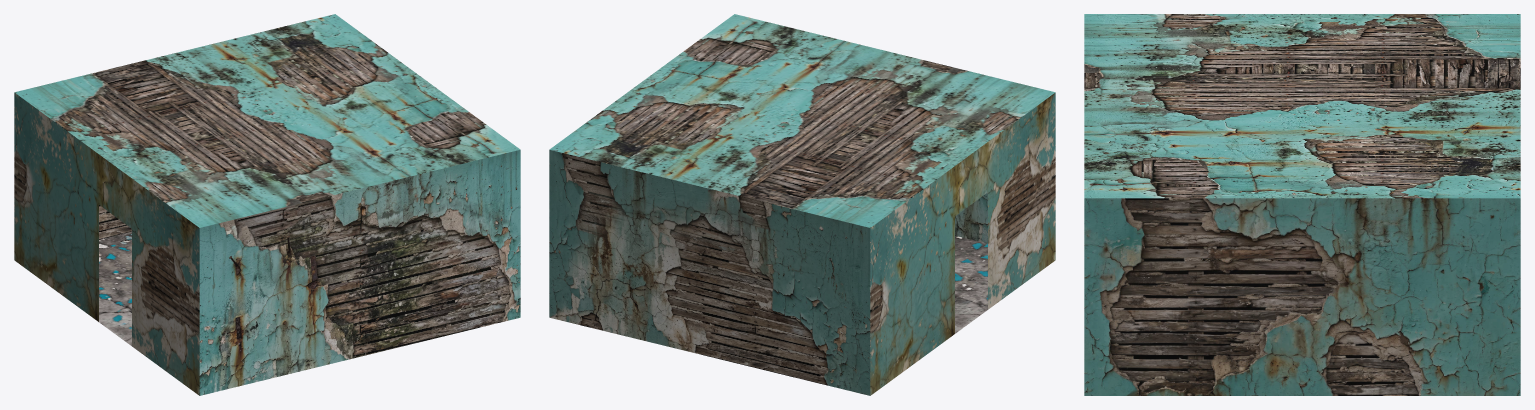
File: room-b.glb
3 views of the same model, side by side, from view 1: azimuth 30°, elevation 25°; view 2: azimuth 150°, elevation 25°; view 3: azimuth 270°, elevation 25° (orthographic). The views are drawn at different scales.
Parts seen in each view (by area): view 1: walls, ceiling, floor; view 2: walls, ceiling, floor; view 3: walls, ceiling.
Part boxes in pixels (<box>): walls: <box>14,92,520,395</box>; ceiling: <box>15,14,519,227</box>; floor: <box>99,231,131,345</box>; walls: <box>549,92,1055,395</box>; ceiling: <box>550,14,1054,227</box>; floor: <box>955,236,987,333</box>; walls: <box>1084,198,1520,395</box>; ceiling: <box>1084,14,1520,198</box>.
Size of the model in its own units: 6 by 3 by 6.
6 materials, 6 textured.
